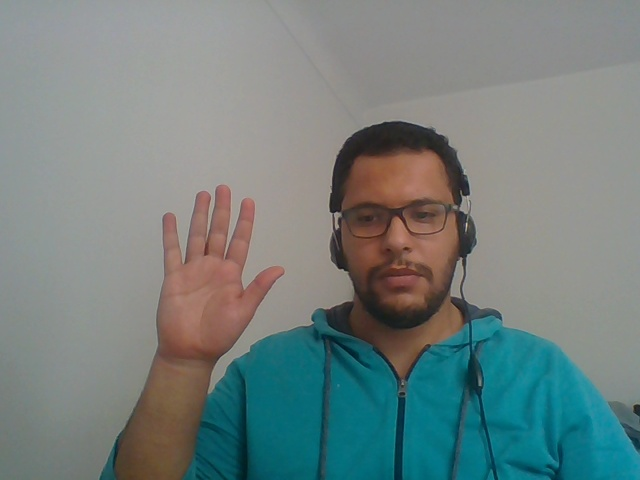hello: (123, 177, 297, 418)
